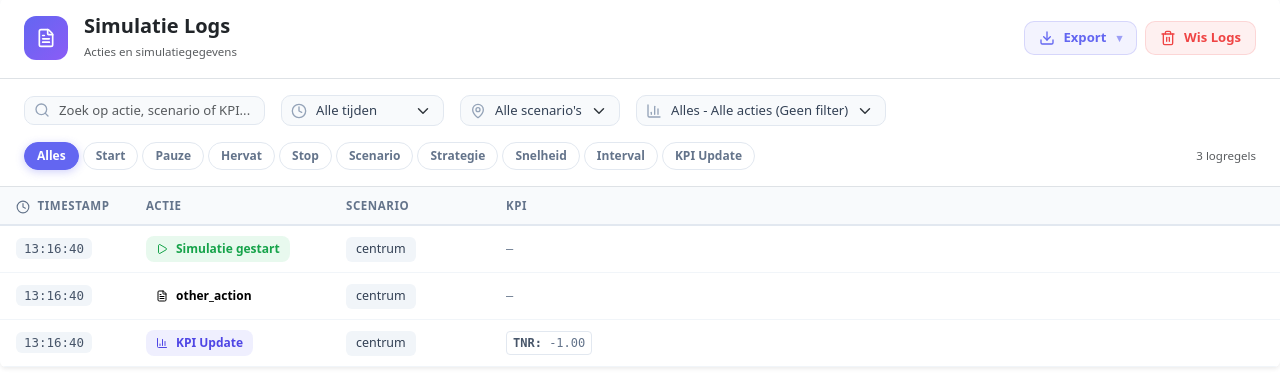
Test case: LogsViewer.vue › filters logs by any_kpi
Select "KPI - Alle KPI Updates" in the dropdown named "Filter op KPI": {"x": 761, "y": 110} x1=636 y1=95 x2=886 y2=126
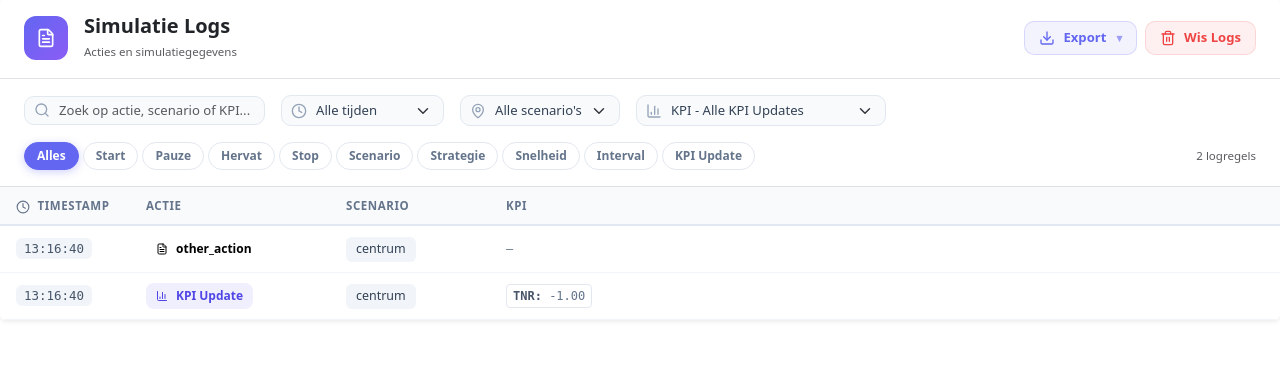
Check: the number of rows with class "log-row" is 2, box x1=0 y1=225 x2=1279 y2=273; x1=0 y1=273 x2=1279 y2=320
